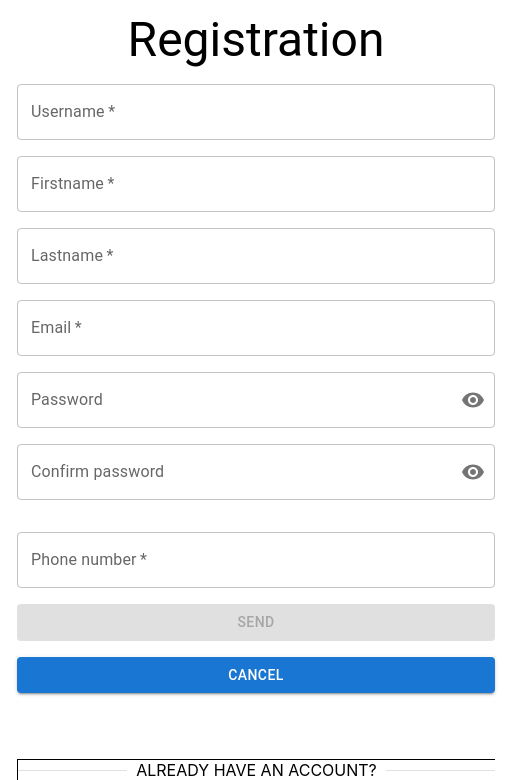
Login › Should return an error if the fields does not match the pattern
In the field labelled "Username": {"x": 256, "y": 112} [17, 84, 495, 140], type "j"
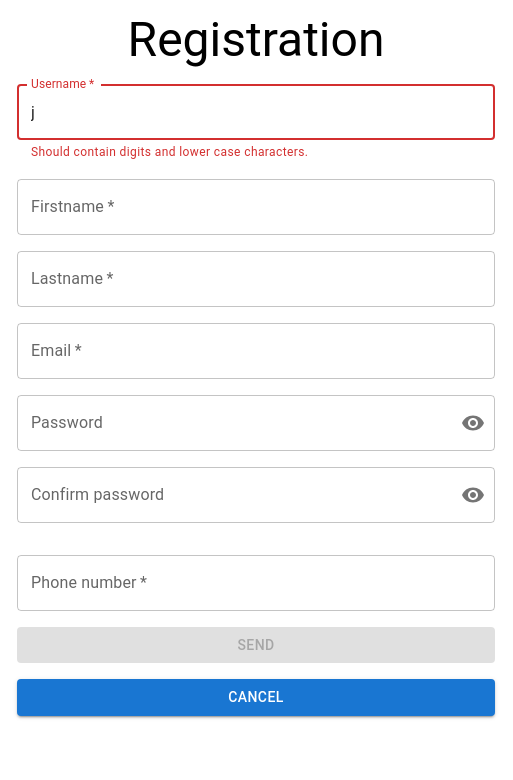
Expected: the text "Should contain digits and lower case characters." is shown, [31, 145, 308, 159]
In the field labelled "Email": {"x": 256, "y": 351} [17, 323, 495, 379], type "a"
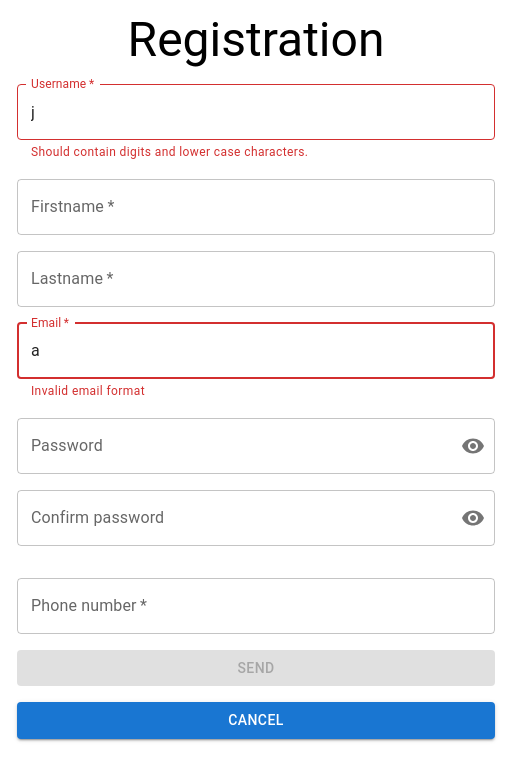
Expected: the text "Invalid email format" is shown, [31, 384, 145, 398]
In the field named "phoneNumber": {"x": 256, "y": 606} [17, 578, 495, 634], type "123"
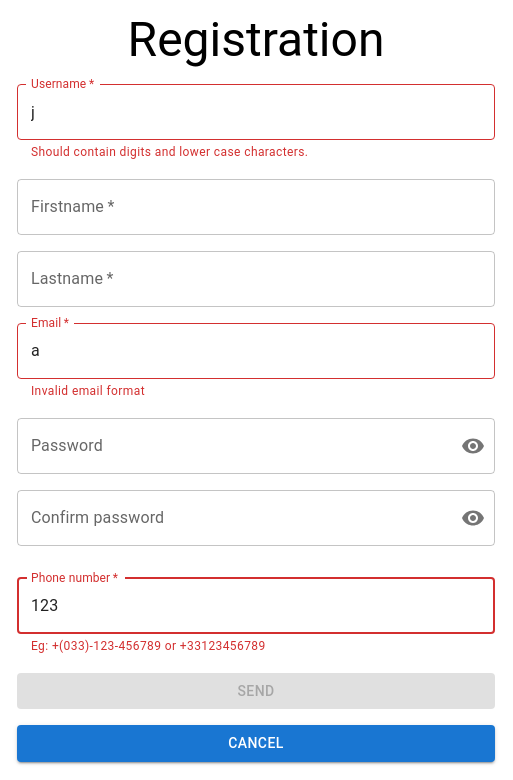
Expected: the text "Eg: +(033)-123-456789 or +33123456789" is shown, [31, 639, 266, 653]
